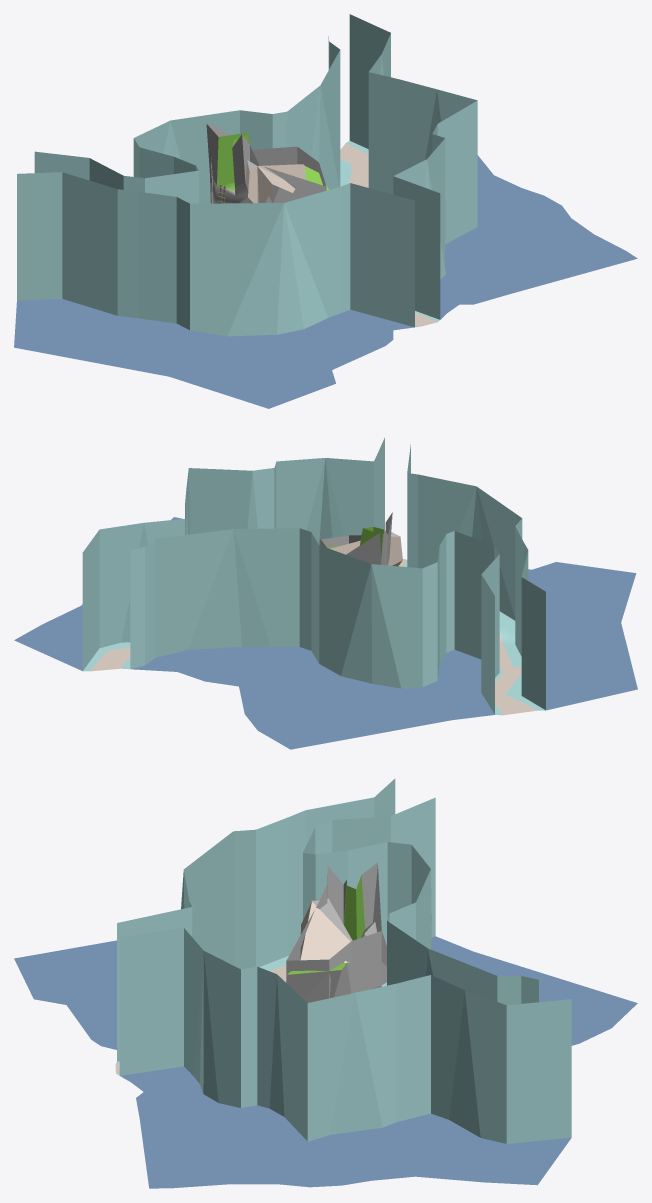
3 views of the same model, one above another, from view 1: azimuth 30°, elevation 25°; view 2: azimuth 150°, elevation 25°; view 3: azimuth 270°, elevation 25° (orthographic). The views are drawn at different scales.
Visible parts, largest first — view 1: simple, level1; view 2: simple, level1; view 3: simple, level1.
Boxes of the visible parts, x1,y1,x2,y2 form: simple: (17, 14, 477, 336); level1: (14, 155, 637, 408); simple: (82, 437, 545, 715); level1: (14, 517, 637, 749); simple: (115, 778, 571, 1143); level1: (14, 898, 637, 1188).
Size of the model in its own units: 160 by 39.06 by 141.
